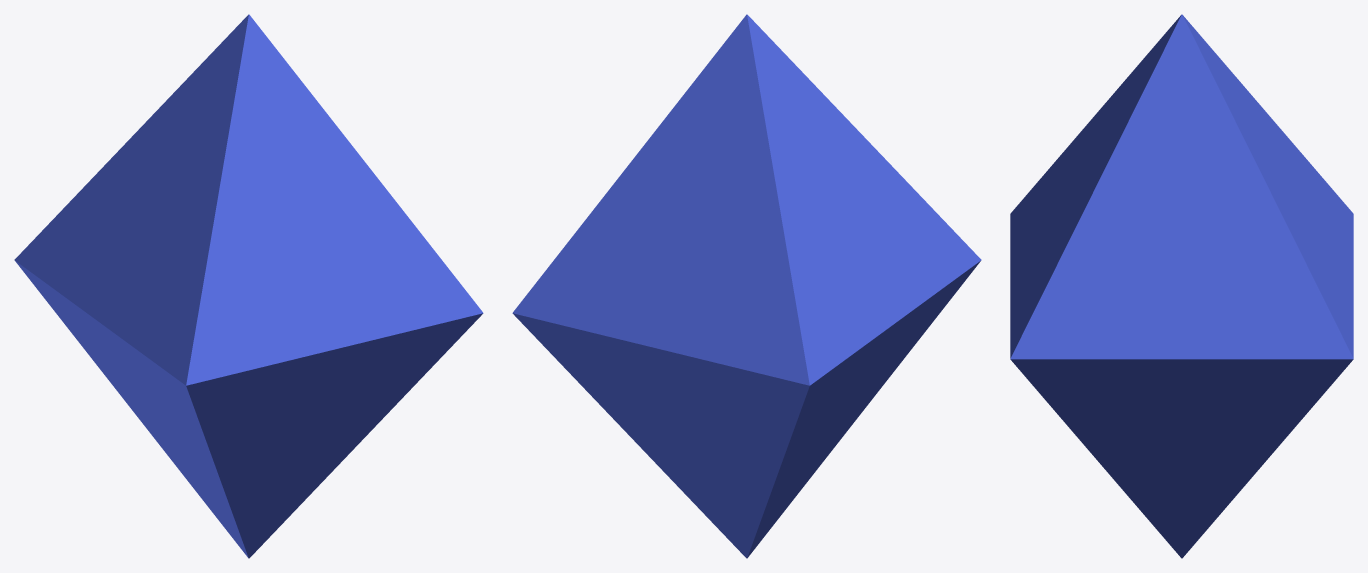
File: diamond.glb
3 renders of one model, left to right at view 1: azimuth 30°, elevation 25°; view 2: azimuth 150°, elevation 25°; view 3: azimuth 270°, elevation 25°, orthographic.
Parts seen in each view (by area): view 1: Cube; view 2: Cube; view 3: Cube.
Boxes of the visible parts, bbox=[...] form: Cube: bbox=[14, 14, 483, 558]; Cube: bbox=[512, 14, 981, 558]; Cube: bbox=[1010, 14, 1353, 558].
Size of the model in its own units: 1.08 by 1.89 by 1.08.
